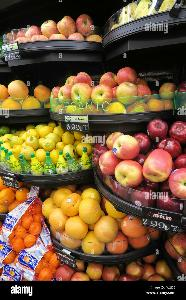apple: (91, 118, 186, 201), (49, 69, 186, 114), (0, 6, 114, 48), (143, 149, 174, 182), (76, 14, 95, 36), (117, 67, 138, 84)
lemon: (1, 115, 88, 192), (42, 138, 55, 152)
orange: (44, 186, 150, 258), (0, 181, 56, 283), (0, 78, 52, 112), (79, 198, 101, 224), (7, 80, 28, 98), (38, 268, 53, 281)
